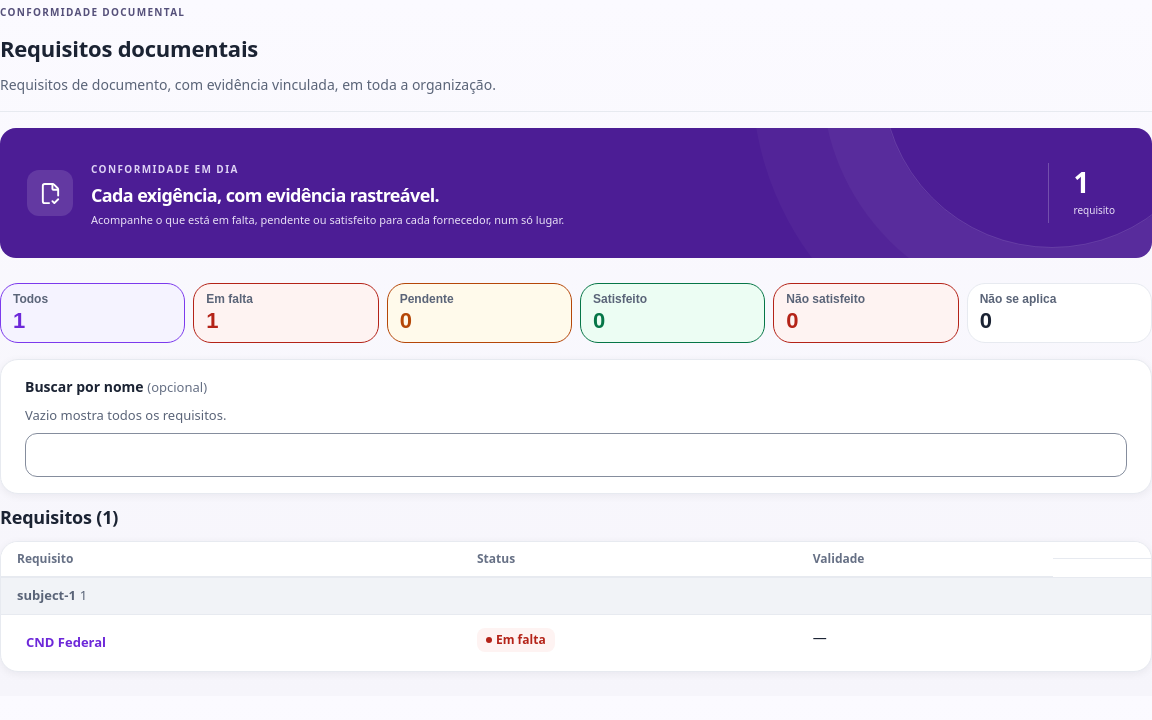
Scenario: RequirementsCollection (A11) › the requirement name opens the requirement itself (not the subject), and the fornecedor groups the row instead of a per-row link - D-339 achado 1 / achado 2026-
The width and height of the screenshot is (1152, 720).
Click the button "CND Federal" at (66, 643), box [17, 627, 115, 659]
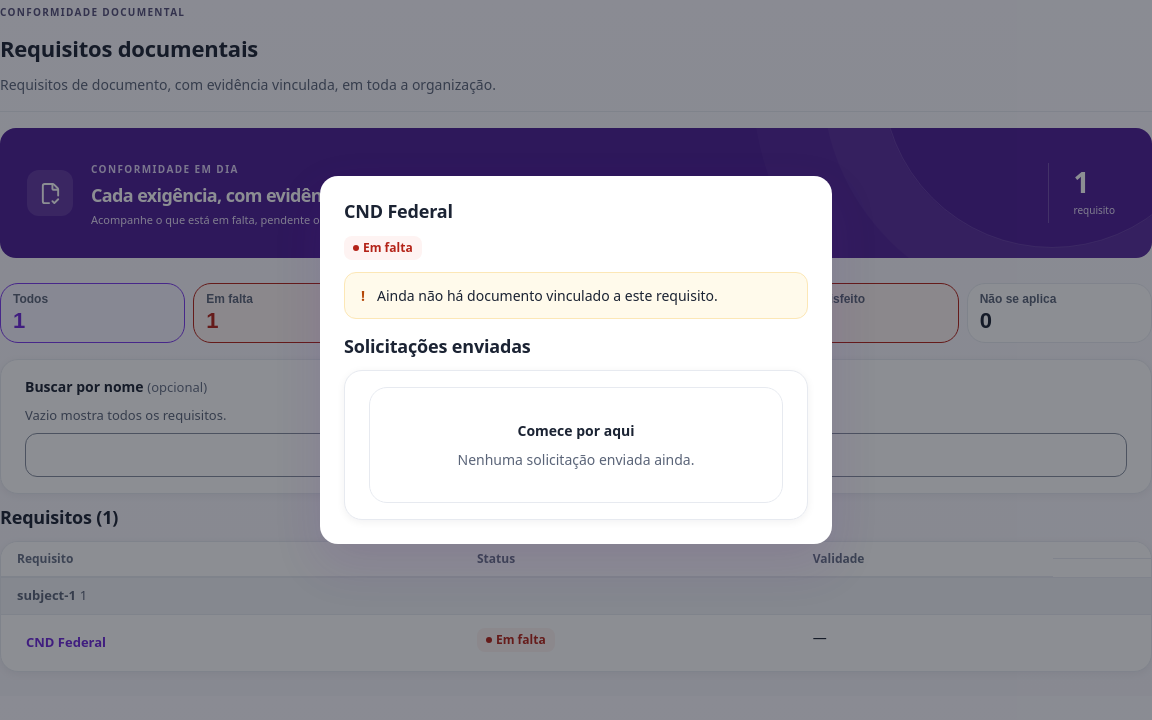
Now the dialog "CND Federal" is shown, box [320, 176, 832, 544]
